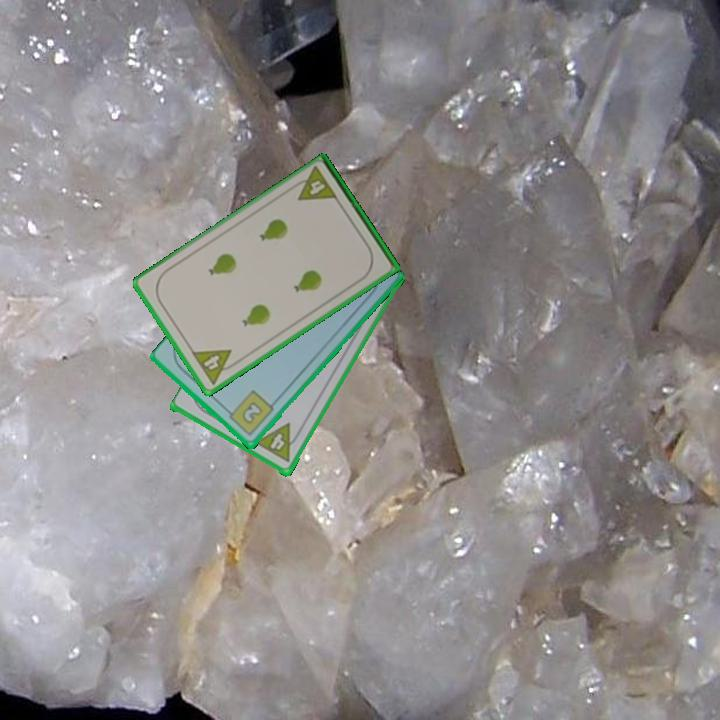2b: (222, 387, 277, 439)
4p: (252, 420, 304, 465), (188, 346, 242, 388), (288, 163, 341, 204)
